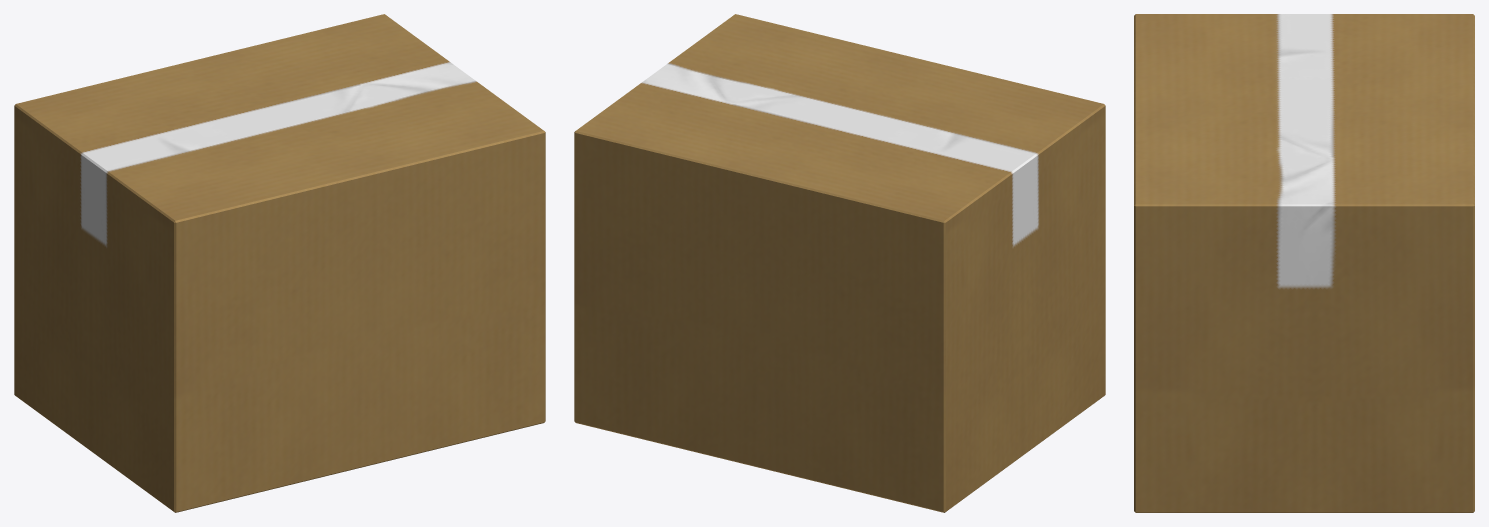
The model's file is Scatolo.fbx.
The picture shows the model from 3 angles, left to right: view 1: azimuth 30°, elevation 25°; view 2: azimuth 150°, elevation 25°; view 3: azimuth 270°, elevation 25°; orthographic projection. The views are drawn at different scales.
Parts seen in each view (by area): view 1: pCube1; view 2: pCube1; view 3: pCube1.
Part boxes in pixels (x1,y1,x2,y2): pCube1: (14, 14, 545, 512); pCube1: (574, 14, 1105, 512); pCube1: (1134, 14, 1474, 512).
Bounding box in the file's own units: 1.33 × 1 × 1.
Materials: 1 (1 with a texture image).
